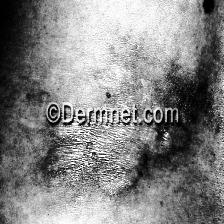Unclassified: (65, 104, 188, 178)
